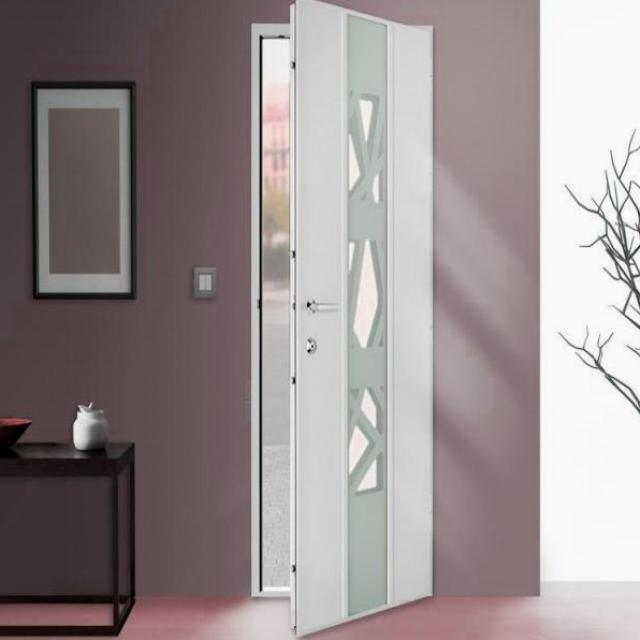door: (288, 0, 435, 636)
